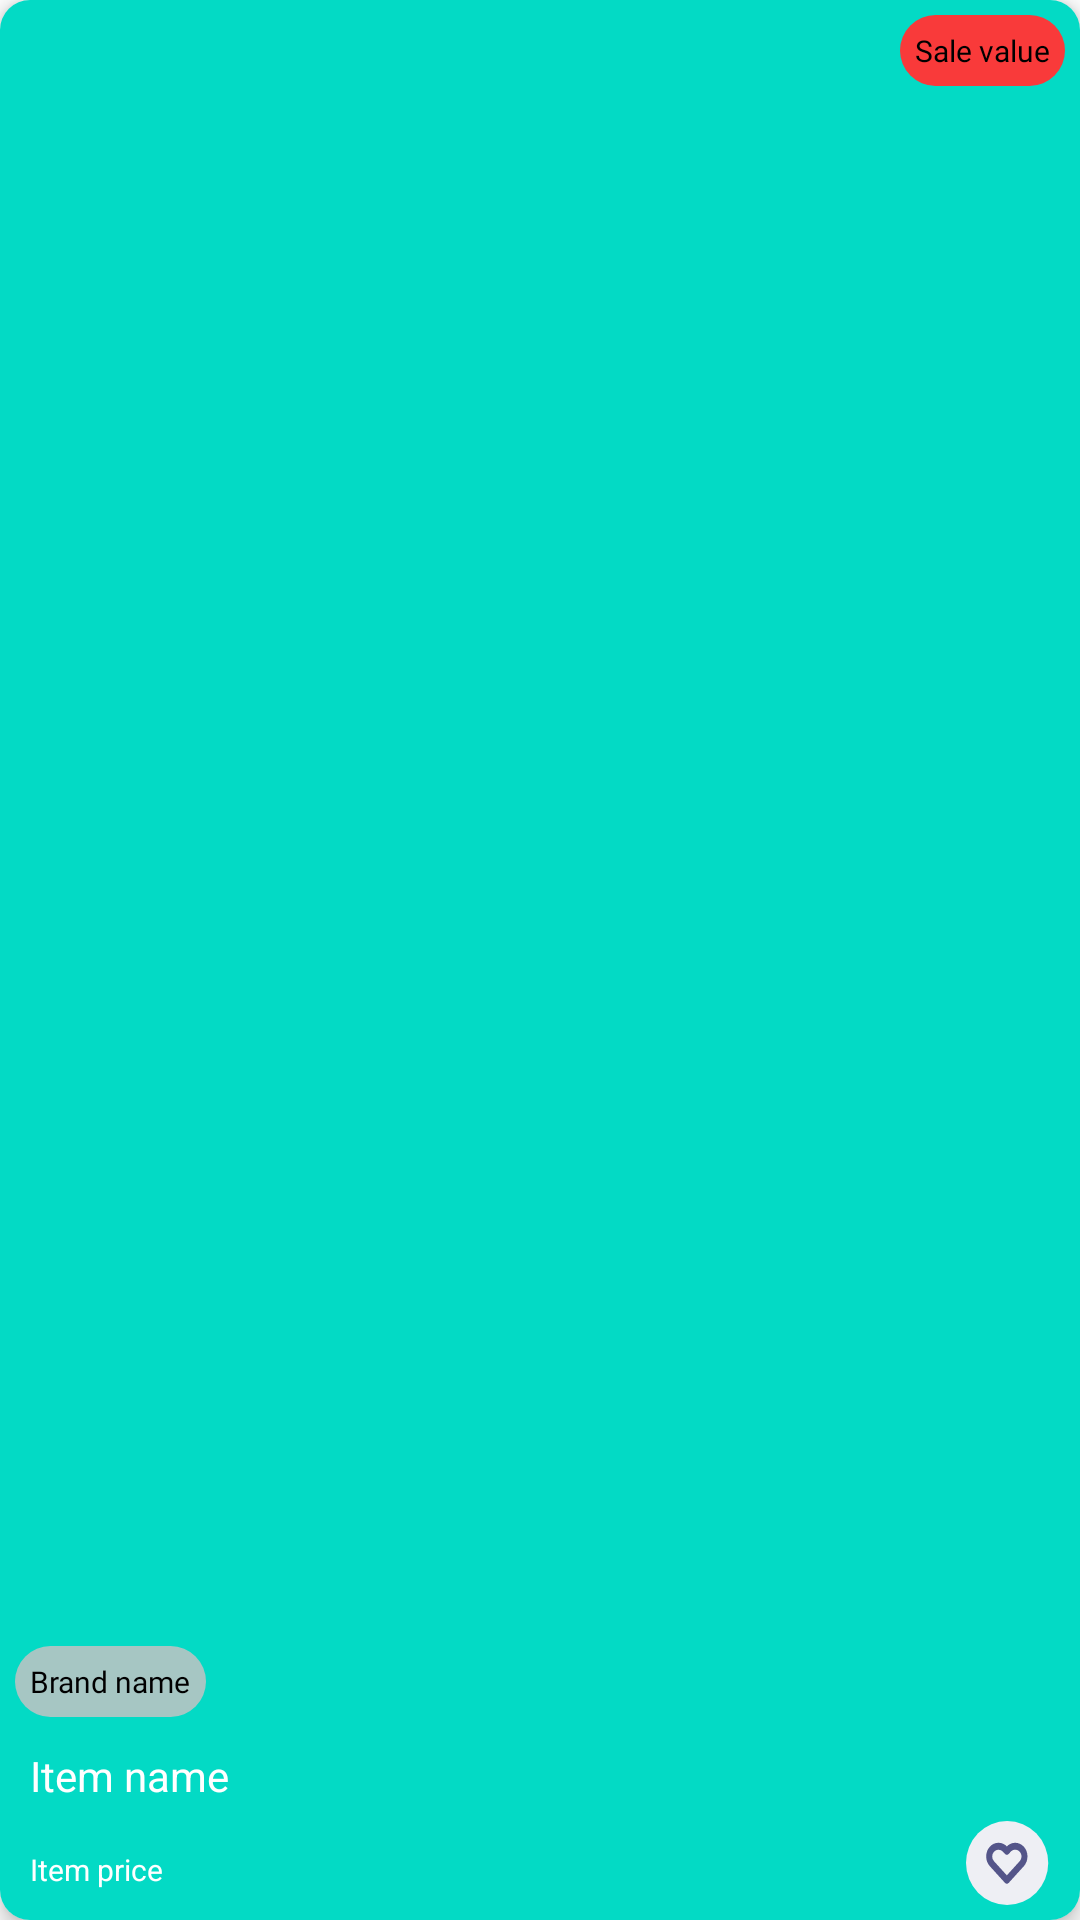

Where to tap for icons on this 1080x1920 app screen, as (x=x, y=y):
favorite item: (x=1007, y=1863)
